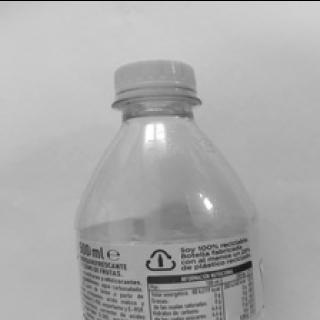plastic_bottles: (68, 54, 266, 320)
